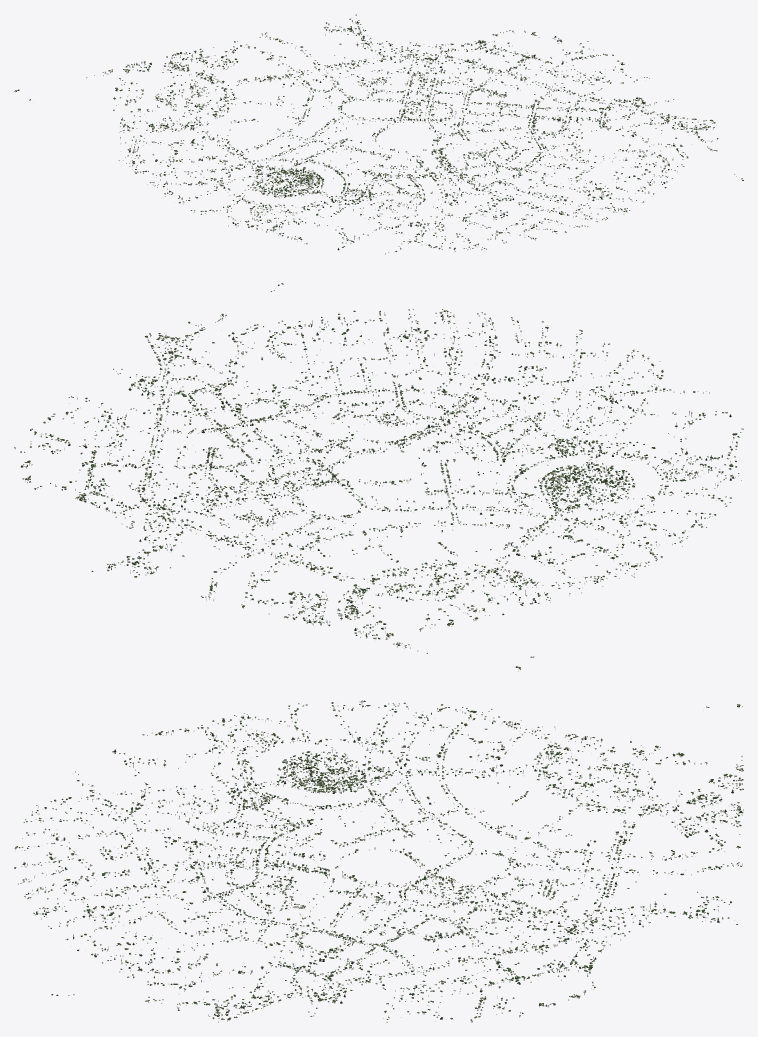
File: manuka_backdrop_part2.glb
The picture shows the model from 3 angles, top to bottom: view 1: azimuth 30°, elevation 25°; view 2: azimuth 150°, elevation 25°; view 3: azimuth 270°, elevation 25°; orthographic projection. The views are drawn at different scales.
Visible parts, largest first — view 1: bg_trees_joined_s08, bg_trees_joined_s14, bg_trees_joined_s11, bg_trees_joined_s12, bg_trees_joined_s15, bg_trees_joined_s10, bg_trees_joined_s13, bg_trees_joined_s09, bg_trees_joined_s02, bg_trees_joined_s05, bg_trees_joined_s04, bg_trees_joined_s01 (+2 smaller); view 2: bg_trees_joined_s08, bg_trees_joined_s14, bg_trees_joined_s11, bg_trees_joined_s15, bg_trees_joined_s12, bg_trees_joined_s10, bg_trees_joined_s13, bg_trees_joined_s09, bg_trees_joined_s02, bg_trees_joined_s05, bg_trees_joined_s04, bg_trees_joined_s01 (+1 smaller); view 3: bg_trees_joined_s08, bg_trees_joined_s14, bg_trees_joined_s11, bg_trees_joined_s12, bg_trees_joined_s15, bg_trees_joined_s10, bg_trees_joined_s13, bg_trees_joined_s09, bg_trees_joined_s02, bg_trees_joined_s05, bg_trees_joined_s04, bg_trees_joined_s01 (+3 smaller).
Boxes of the visible parts, x1,y1,x2,y2 form: bg_trees_joined_s08: (164, 167, 370, 244); bg_trees_joined_s14: (18, 33, 336, 114); bg_trees_joined_s11: (528, 94, 734, 174); bg_trees_joined_s12: (441, 30, 649, 108); bg_trees_joined_s15: (14, 89, 283, 189); bg_trees_joined_s10: (474, 153, 743, 233); bg_trees_joined_s13: (265, 14, 467, 89); bg_trees_joined_s09: (337, 187, 536, 254); bg_trees_joined_s02: (423, 143, 526, 185); bg_trees_joined_s05: (339, 81, 437, 124); bg_trees_joined_s04: (417, 89, 516, 129); bg_trees_joined_s01: (378, 151, 470, 193); bg_trees_joined_s08: (538, 423, 743, 527); bg_trees_joined_s14: (206, 529, 516, 667); bg_trees_joined_s11: (113, 291, 339, 428); bg_trees_joined_s15: (438, 501, 689, 671); bg_trees_joined_s12: (14, 396, 232, 503); bg_trees_joined_s10: (274, 283, 548, 402); bg_trees_joined_s13: (91, 485, 299, 597); bg_trees_joined_s09: (474, 329, 731, 443); bg_trees_joined_s02: (348, 393, 467, 452); bg_trees_joined_s05: (224, 472, 360, 530); bg_trees_joined_s04: (216, 432, 345, 483); bg_trees_joined_s01: (418, 403, 537, 463); bg_trees_joined_s08: (142, 700, 377, 811); bg_trees_joined_s14: (528, 706, 743, 866); bg_trees_joined_s11: (69, 917, 377, 1022); bg_trees_joined_s12: (377, 917, 595, 1022); bg_trees_joined_s15: (377, 702, 742, 804); bg_trees_joined_s10: (14, 858, 251, 995); bg_trees_joined_s13: (503, 864, 741, 959); bg_trees_joined_s09: (14, 749, 250, 864); bg_trees_joined_s02: (207, 861, 347, 909); bg_trees_joined_s05: (416, 864, 547, 914); bg_trees_joined_s04: (377, 881, 481, 938); bg_trees_joined_s01: (208, 819, 349, 864).
Size of the model in its own units: 3007 by 87.56 by 2993.
Materials: 1 (1 with a texture image).
